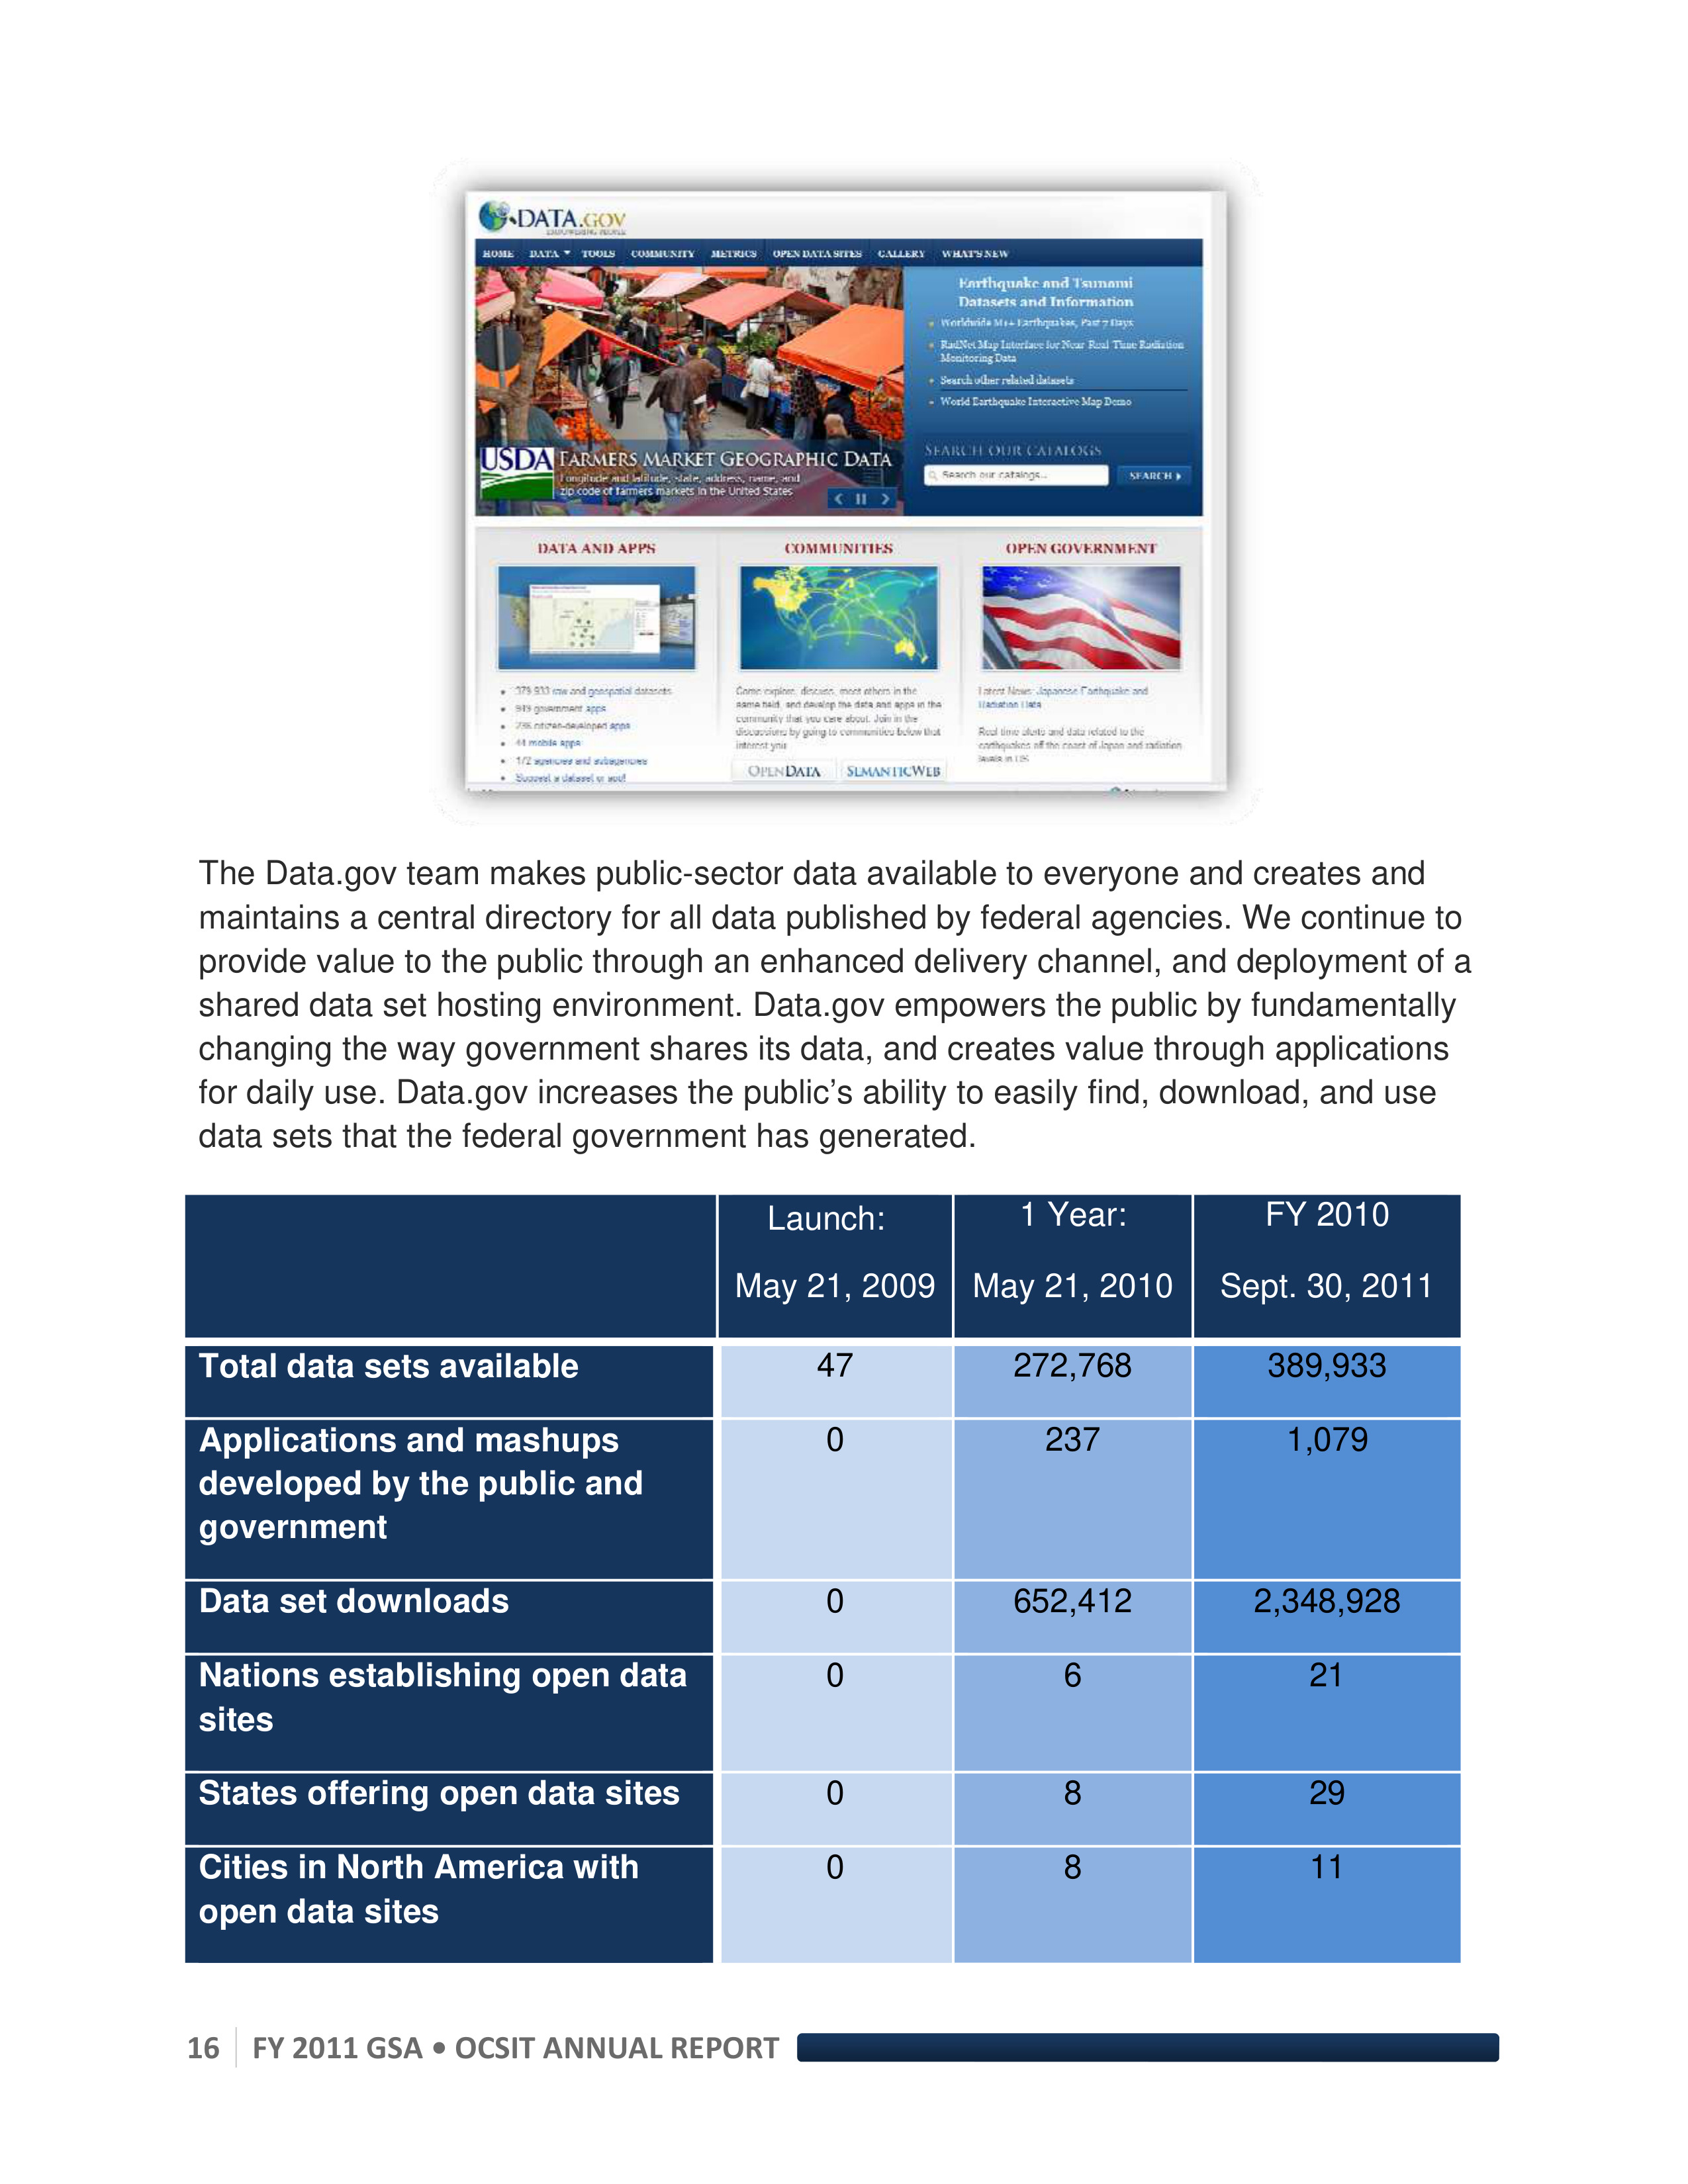table: (199, 1189, 1434, 1932)
